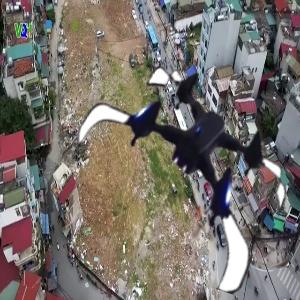drone: (72, 46, 300, 274)
